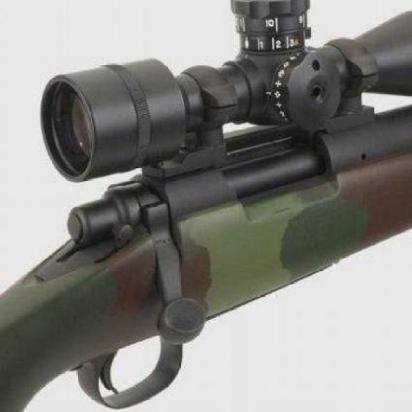Gun: (0, 8, 366, 411)
